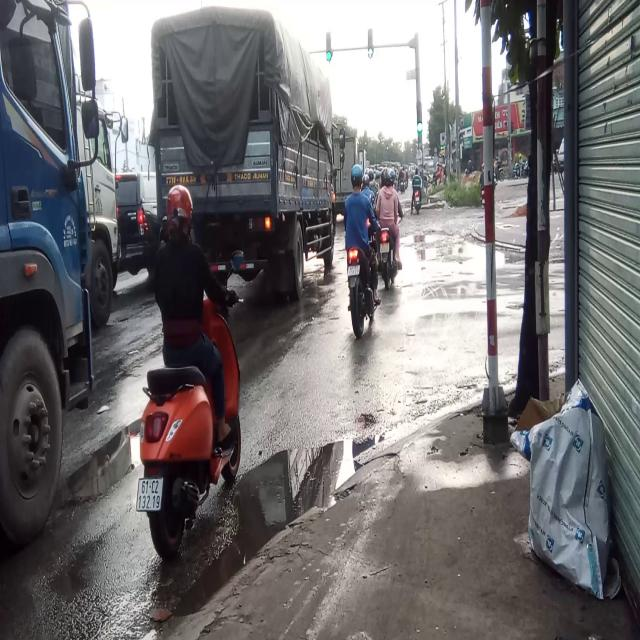bien_trang: (132, 476, 166, 516)
